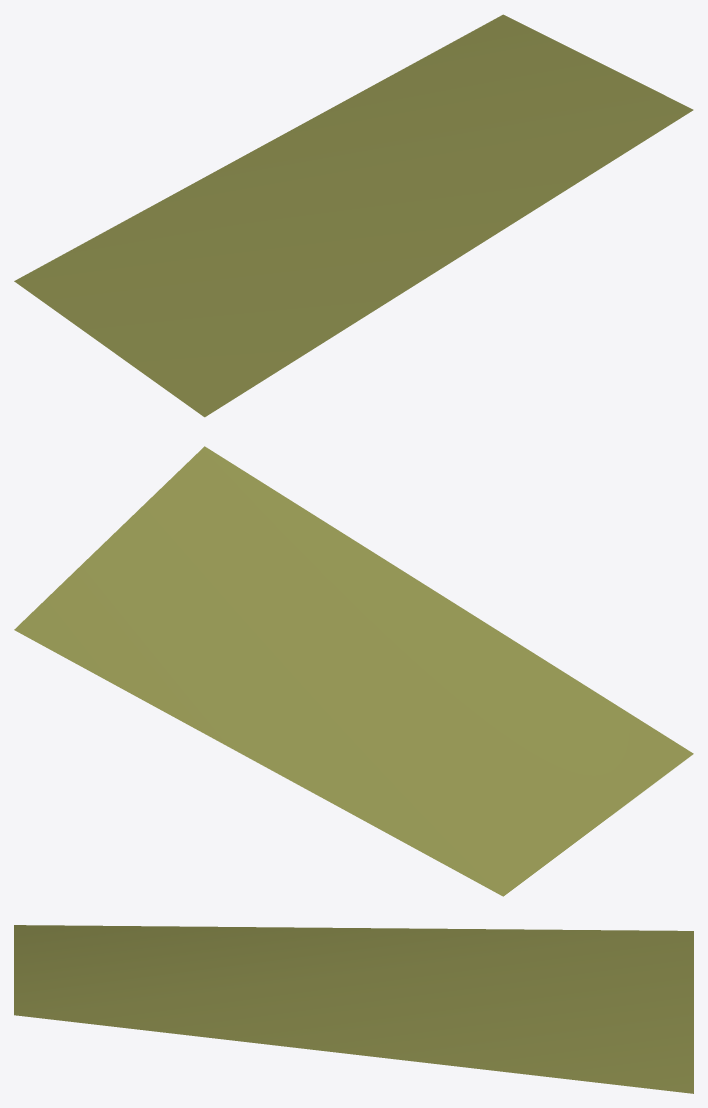
Rendered from Field_0.glb.
3 renders of one model, top to bottom at view 1: azimuth 30°, elevation 25°; view 2: azimuth 150°, elevation 25°; view 3: azimuth 270°, elevation 25°, orthographic. The views are drawn at different scales.
Visible parts, largest first — view 1: Field_0; view 2: Field_0; view 3: Field_0.
Boxes of the visible parts, bbox=[...] form: Field_0: bbox=[14, 14, 693, 417]; Field_0: bbox=[14, 446, 693, 896]; Field_0: bbox=[14, 925, 693, 1093].
Bounding box in the file's own units: 40 × 14.96 × 27.
